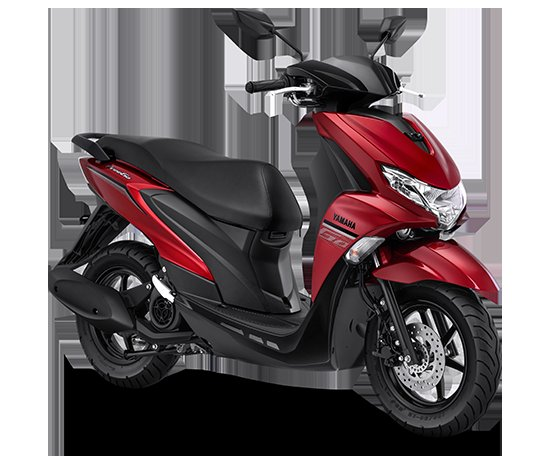motor: (69, 58, 500, 445)
